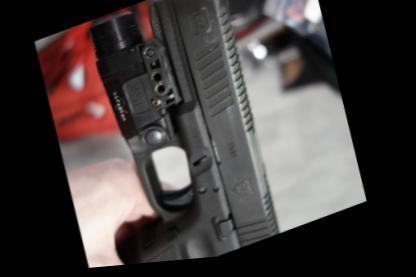pistol: (26, 0, 306, 272)
